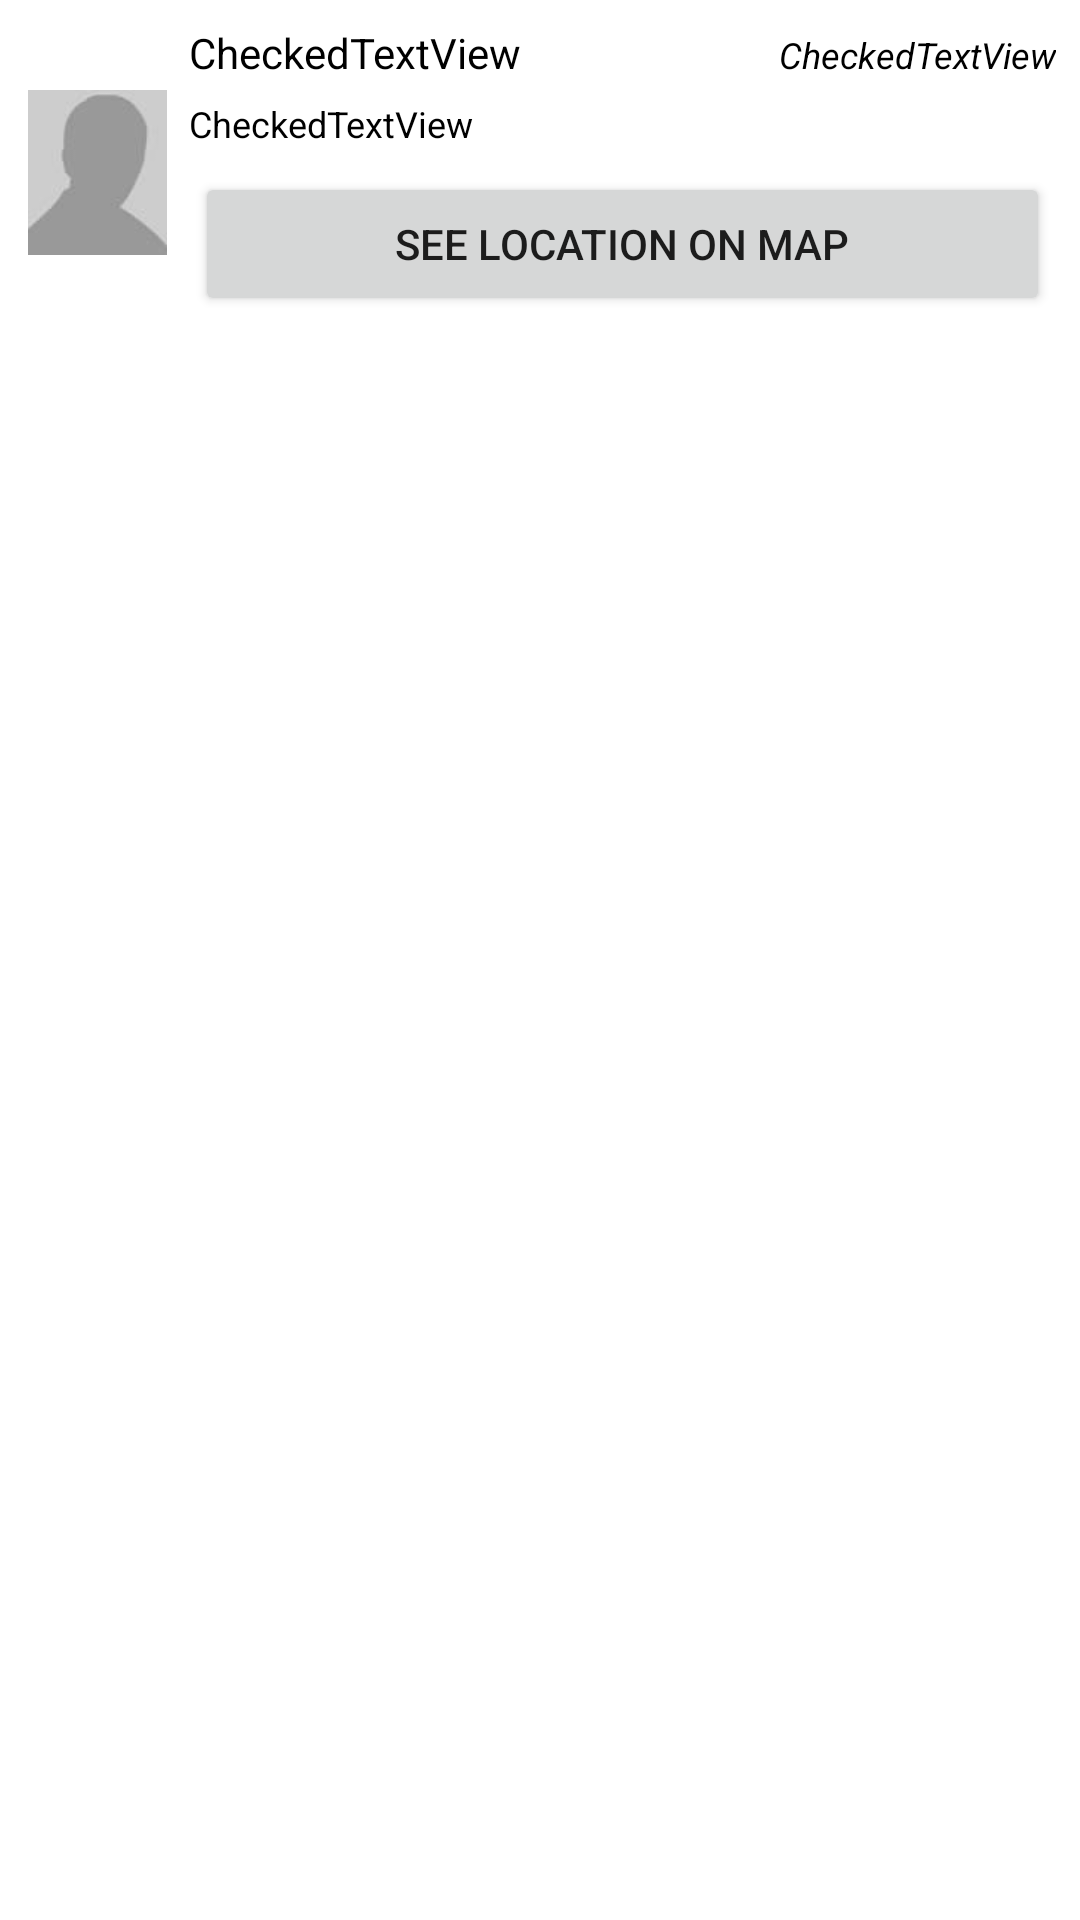

Named icons in this screenshot (1080*1920) and their bounding boxes, [x1,y1,x2,y2]:
user: [28,90,167,255]
